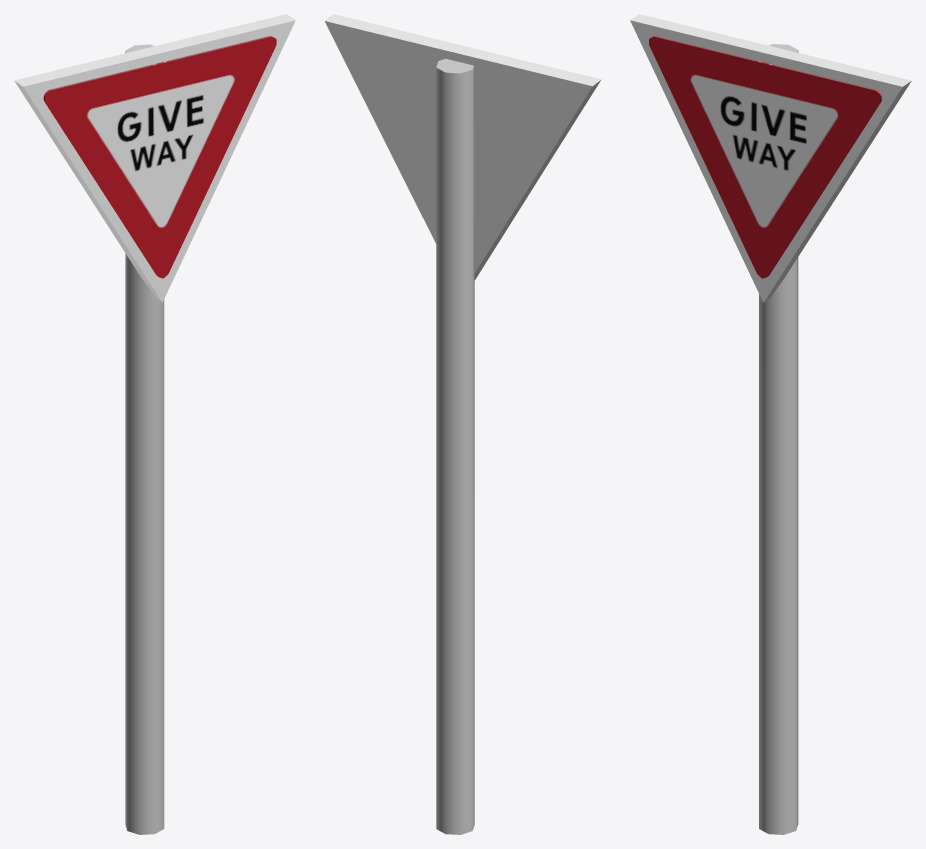
File: GIVEWAY.fbx
3 views of the same model, side by side, from view 1: azimuth 30°, elevation 25°; view 2: azimuth 150°, elevation 25°; view 3: azimuth 330°, elevation 25° (orthographic).
Parts seen in each view (by area): view 1: group26_pasted__group25_pasted__pasted__group24_pasted__past; view 2: group26_pasted__group25_pasted__pasted__group24_pasted__past; view 3: group26_pasted__group25_pasted__pasted__group24_pasted__past.
Part boxes in pixels (<box>): group26_pasted__group25_pasted__pasted__group24_pasted__past: <box>14,14,295,834</box>; group26_pasted__group25_pasted__pasted__group24_pasted__past: <box>324,14,601,834</box>; group26_pasted__group25_pasted__pasted__group24_pasted__past: <box>630,14,911,834</box>.
Bounding box in the file's own units: 1.38 × 3.79 × 0.2405.
5 materials, 2 textured.
